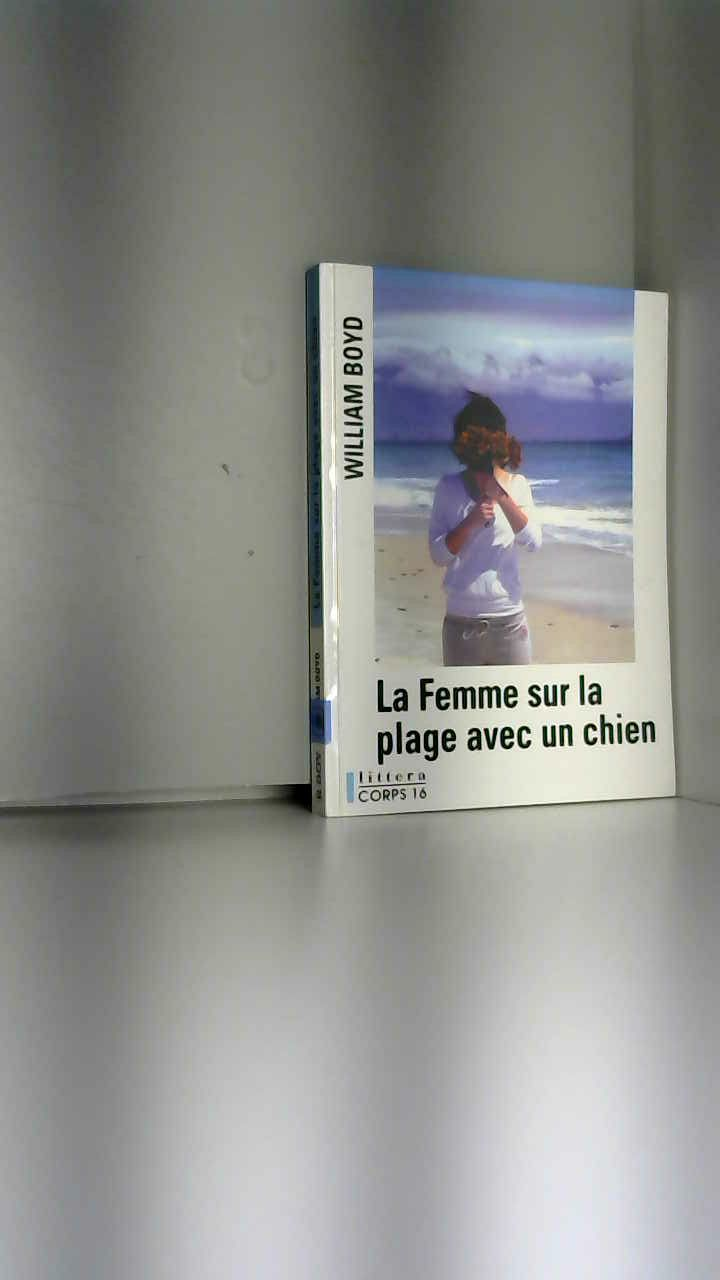book: (280, 240, 720, 882)
